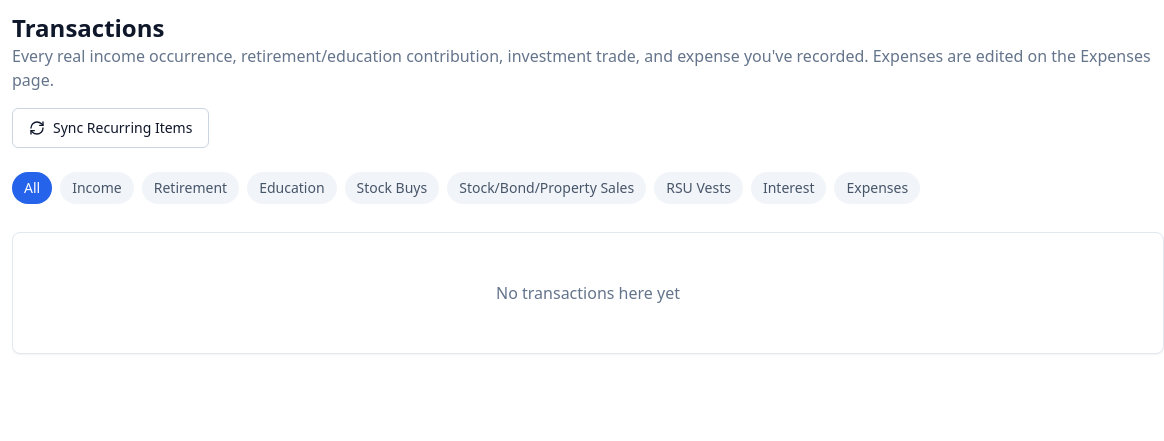
Test: TransactionsPage › shows a "nothing was due" message when the sync finds nothing to catch up
Click the button "Sync Recurring Items" at (111, 128), box [12,108,209,148]
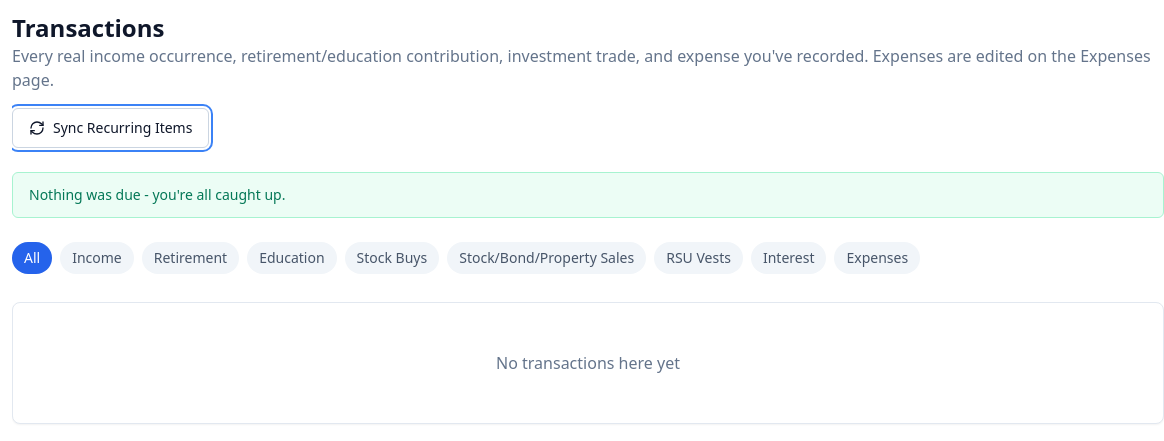
Now the text "Nothing was due - you're all caught up." is shown, box [12,172,1163,218]
